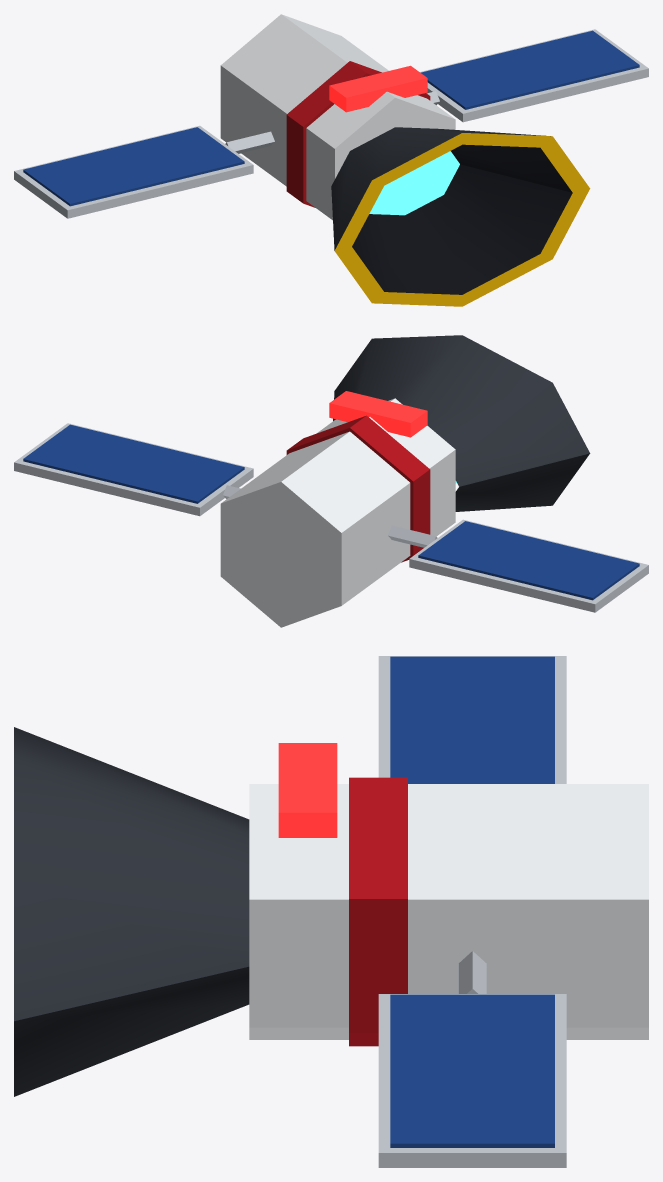
File: mini_sweeper.glb
3 renders of one model, top to bottom at view 1: azimuth 30°, elevation 25°; view 2: azimuth 150°, elevation 25°; view 3: azimuth 270°, elevation 25°, orthographic. The views are drawn at different scales.
Visible parts, largest first — view 1: body; view 2: body; view 3: body.
Boxes of the visible parts, x1,y1,x2,y2 form: body: (14,14,648,306); body: (14,335,648,627); body: (14,656,648,1167).
Bounding box in the file's own units: 100 × 28.6 × 54.
